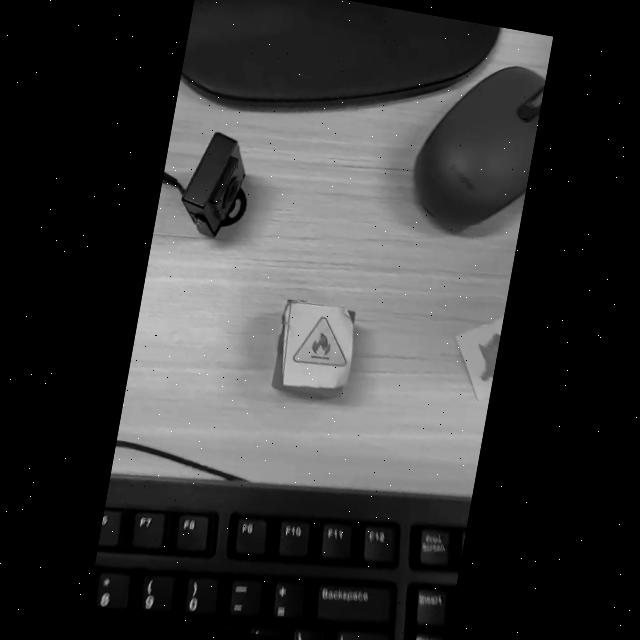Fire: (293, 317, 345, 366)
